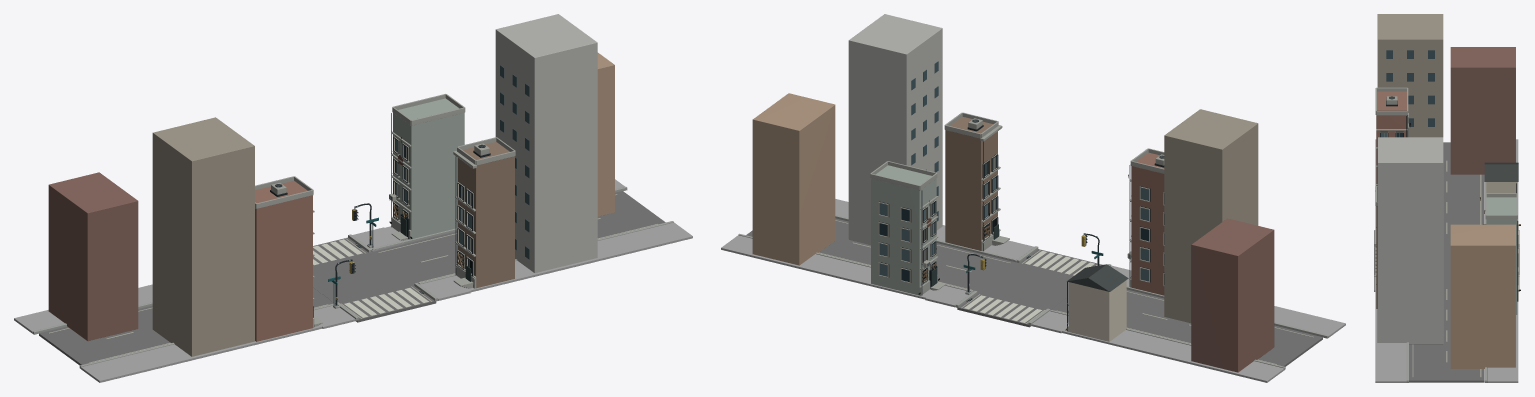
File: city_hd_11.glb
3 views of the same model, side by side, from view 1: azimuth 30°, elevation 25°; view 2: azimuth 150°, elevation 25°; view 3: azimuth 270°, elevation 25° (orthographic). The views are drawn at different scales.
Visible parts, largest first — view 1: CITY_realwall_a49c8e, CITY_realwall_b8b9b4, CITY_realwall_87685e, CITY_PBR_asphalt, CITY_realwall_9a7567, CITY_PBR_pavement, CITY_realwall_a3aea6, CITY_realwall_927d6c, CITY_trim, CITY_realwall_b29982, CITY_curb, CITY_zebra_paint (+5 smaller); view 2: CITY_realwall_b8b9b4, CITY_realwall_b29982, CITY_realwall_a49c8e, CITY_realwall_87685e, CITY_PBR_asphalt, CITY_PBR_pavement, CITY_realwall_a3aea6, CITY_realwall_927d6c, CITY_realwall_9a7567, CITY_realwall_d0c8b8, CITY_trim, CITY_frame (+9 smaller); view 3: CITY_realwall_b8b9b4, CITY_realwall_b29982, CITY_realwall_87685e, CITY_realwall_a49c8e, CITY_PBR_asphalt, CITY_PBR_pavement, CITY_realwall_9a7567, CITY_trim, CITY_realwall_a3aea6, CITY_roof, CITY_distant_window, CITY_realwall_d0c8b8 (+5 smaller).
Boxes of the visible parts, x1,y1,x2,y2 form: CITY_realwall_a49c8e: [152, 117, 254, 356]; CITY_realwall_b8b9b4: [495, 14, 597, 272]; CITY_realwall_87685e: [48, 172, 138, 341]; CITY_PBR_asphalt: [39, 191, 665, 365]; CITY_realwall_9a7567: [255, 181, 312, 341]; CITY_PBR_pavement: [14, 179, 692, 382]; CITY_realwall_a3aea6: [393, 98, 464, 238]; CITY_realwall_927d6c: [457, 142, 514, 288]; CITY_trim: [255, 94, 515, 327]; CITY_realwall_b29982: [597, 52, 614, 216]; CITY_curb: [33, 186, 673, 368]; CITY_zebra_paint: [313, 239, 428, 317]; CITY_realwall_b8b9b4: [848, 14, 942, 244]; CITY_realwall_b29982: [752, 93, 835, 265]; CITY_realwall_a49c8e: [1164, 109, 1258, 323]; CITY_realwall_87685e: [1191, 218, 1274, 372]; CITY_PBR_asphalt: [746, 218, 1322, 366]; CITY_PBR_pavement: [721, 199, 1345, 382]; CITY_realwall_a3aea6: [871, 165, 936, 295]; CITY_realwall_927d6c: [945, 116, 997, 250]; CITY_realwall_9a7567: [1131, 152, 1164, 295]; CITY_realwall_d0c8b8: [1069, 280, 1126, 341]; CITY_trim: [870, 112, 1164, 331]; CITY_frame: [878, 154, 1164, 286]; CITY_realwall_b8b9b4: [1377, 137, 1443, 344]; CITY_realwall_b29982: [1450, 224, 1515, 368]; CITY_realwall_87685e: [1450, 47, 1515, 174]; CITY_realwall_a49c8e: [1377, 14, 1443, 137]; CITY_PBR_asphalt: [1374, 142, 1519, 382]; CITY_PBR_pavement: [1374, 139, 1519, 382]; CITY_realwall_9a7567: [1376, 91, 1407, 185]; CITY_trim: [1375, 87, 1517, 284]; CITY_realwall_a3aea6: [1486, 197, 1517, 314]; CITY_roof: [1376, 162, 1518, 206]; CITY_distant_window: [1386, 50, 1434, 126]; CITY_realwall_d0c8b8: [1486, 182, 1517, 193].
Bounding box in the file's own units: 63 × 22.26 × 16.14.
